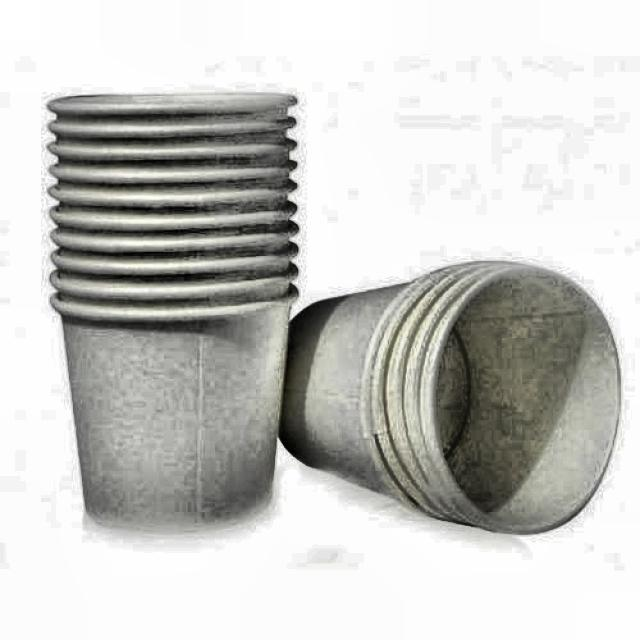Cup: (42, 77, 297, 539), (291, 247, 640, 546)
